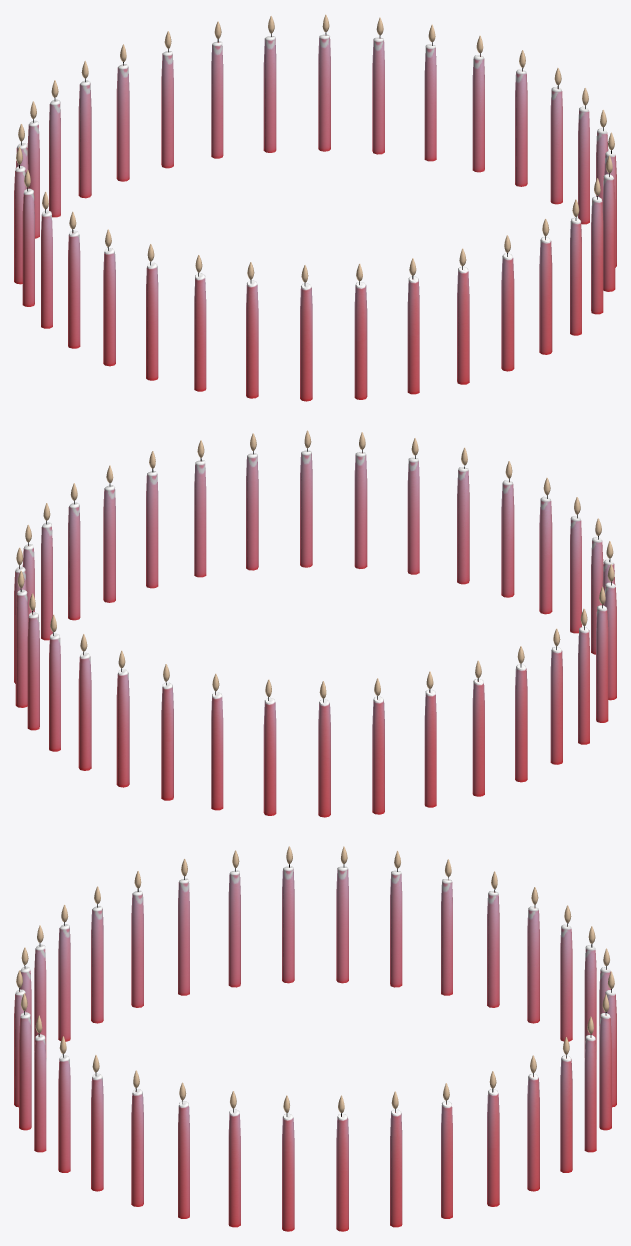
The model's file is rockacandles.obj.
The picture shows the model from 3 angles, top to bottom: view 1: azimuth 30°, elevation 25°; view 2: azimuth 150°, elevation 25°; view 3: azimuth 270°, elevation 25°; orthographic projection.
Parts seen in each view (by area): view 1: candles; view 2: candles; view 3: candles.
Part boxes in pixels (bbox=[...]): candles: bbox=[14, 14, 616, 401]; candles: bbox=[14, 430, 616, 817]; candles: bbox=[14, 846, 616, 1231].
Size of the model in its own units: 1.58 by 0.3884 by 1.58.
1 material, 1 textured.
